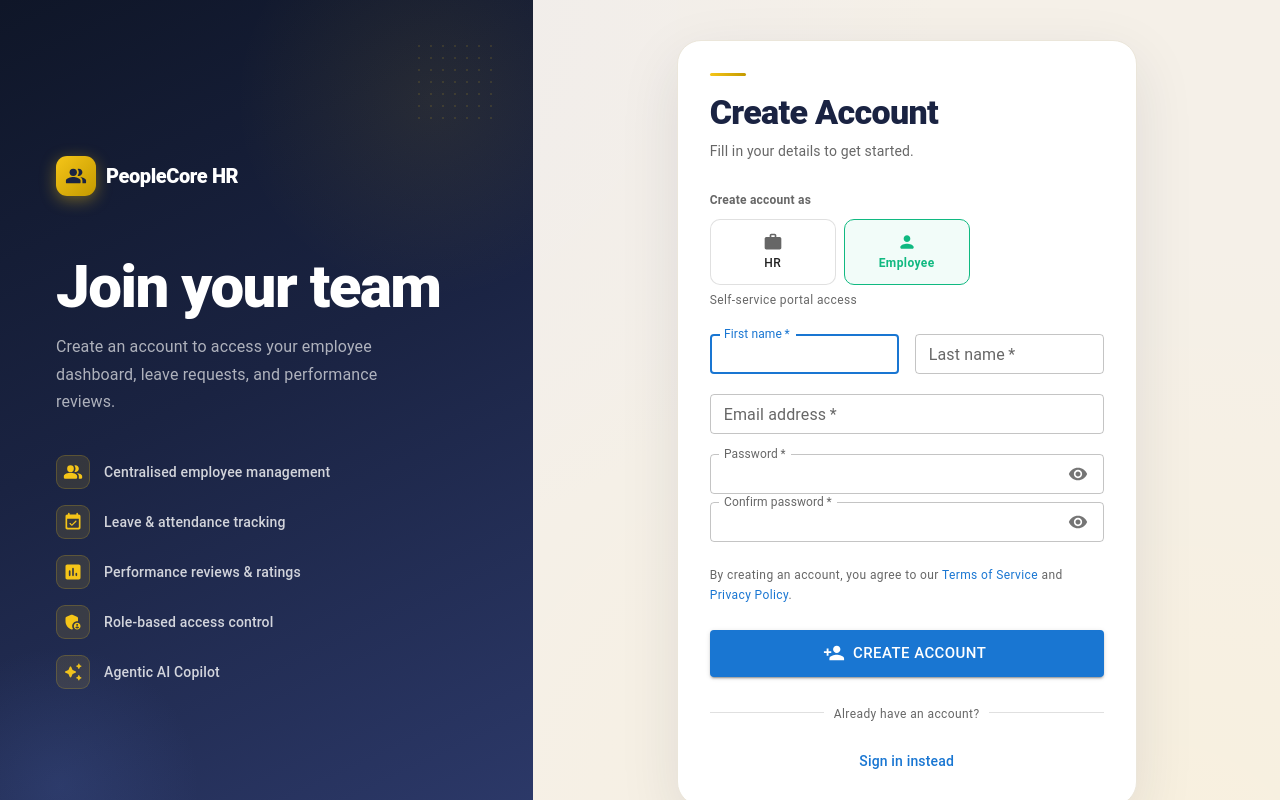
Scenario: RegisterPage › Validation › shows required errors when all fields are empty on submit
Step 1. Click the button "Create Account" → click(907, 653), box top-left (710, 630), bottom-right (1104, 677)
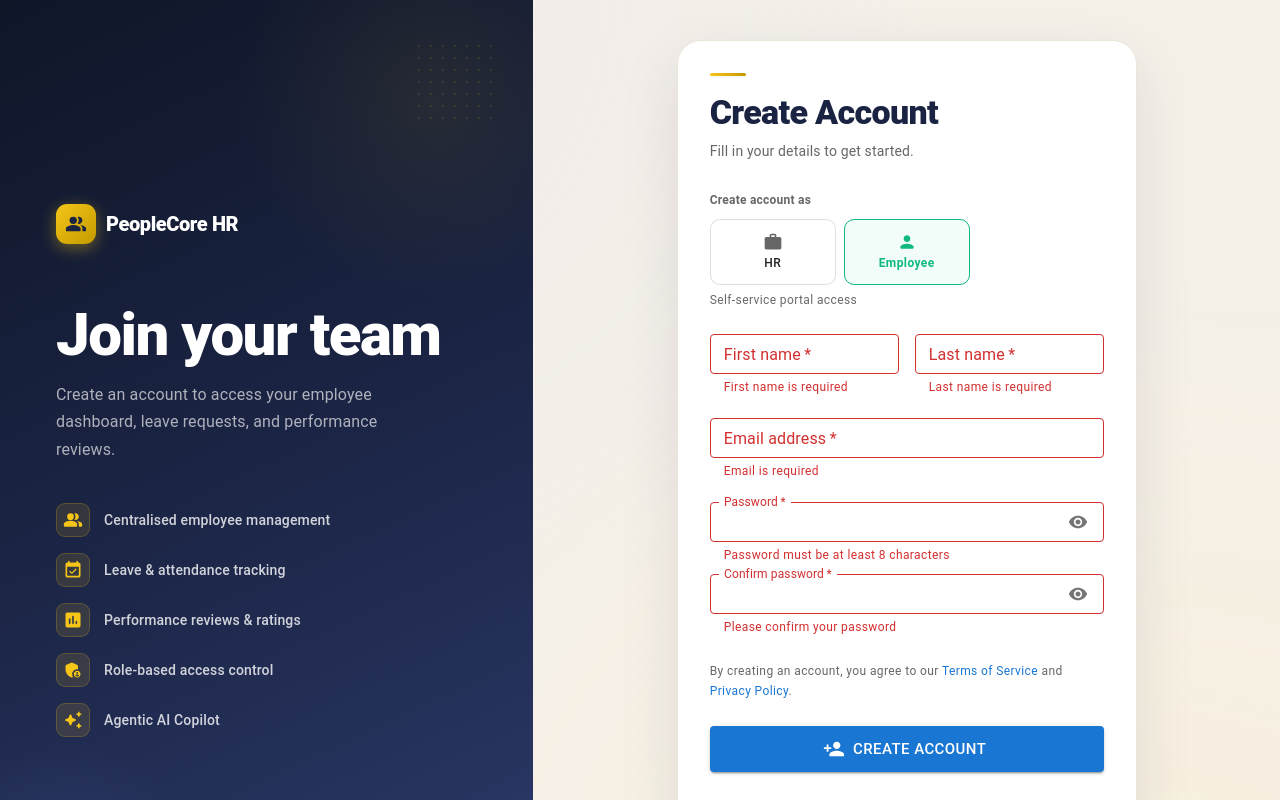
expect the text "First name is required" is shown: met, box top-left (724, 380), bottom-right (848, 394)
expect the text "Last name is required" is shown: met, box top-left (929, 380), bottom-right (1052, 394)
expect the text "Email is required" is shown: met, box top-left (724, 464), bottom-right (819, 478)
